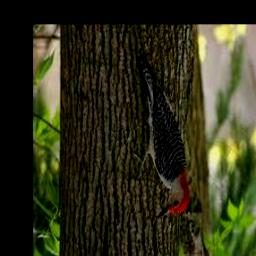Woodpecker: (133, 61, 190, 220)
